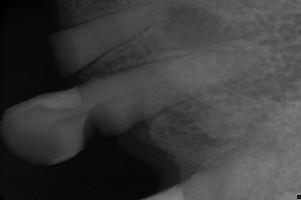Furcation Involvement: (160, 0, 225, 49)
